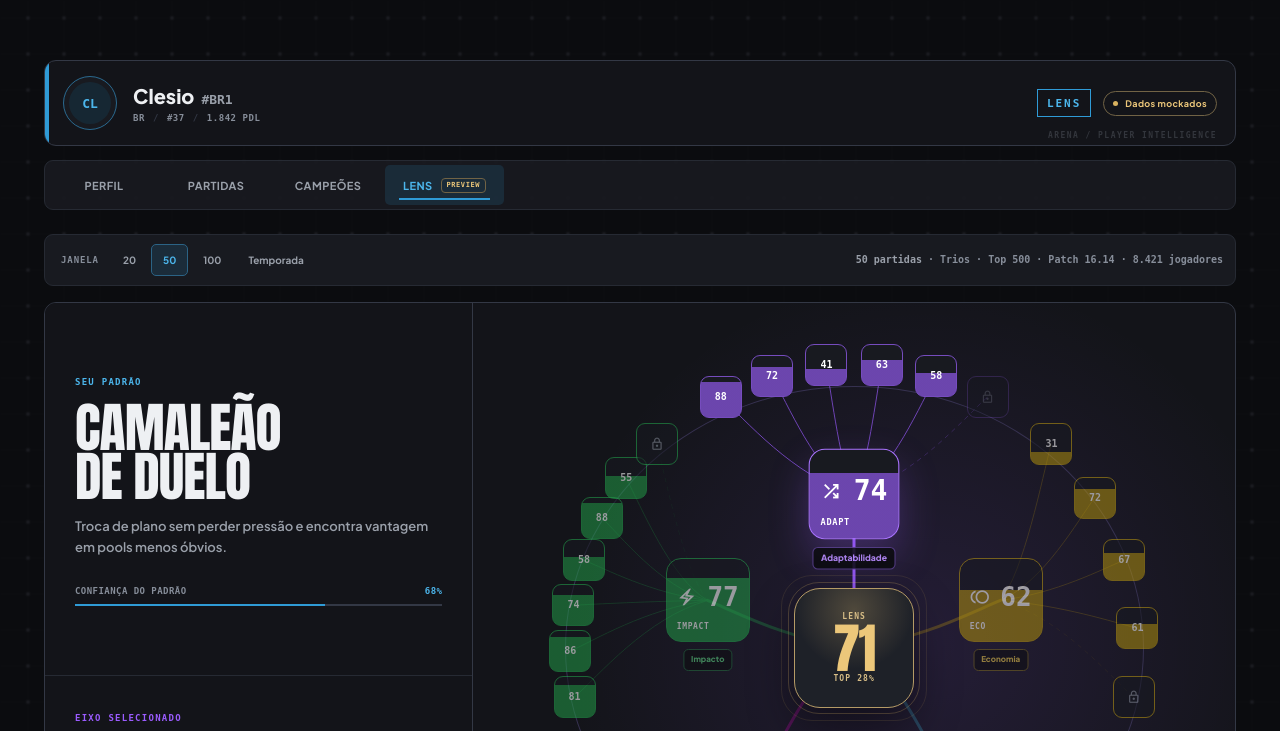
Test: Lens › recalibra a janela do fixture sem buscar o backend
This screenshot has width=1280, height=731.
Click the button "20". click: click(129, 260)
box: [111,244,148,276]
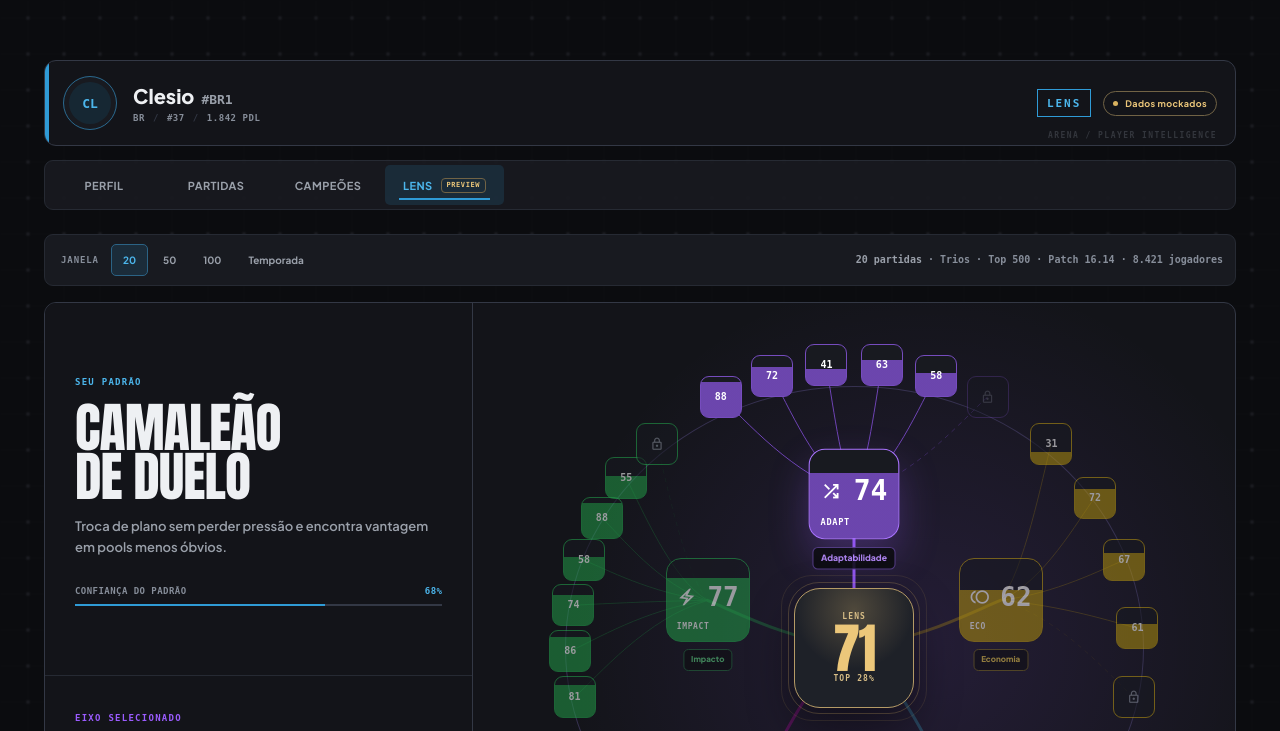
Expected: the element named "Configuração do Lens" shows "20 partidas", [44,234,1236,286]
